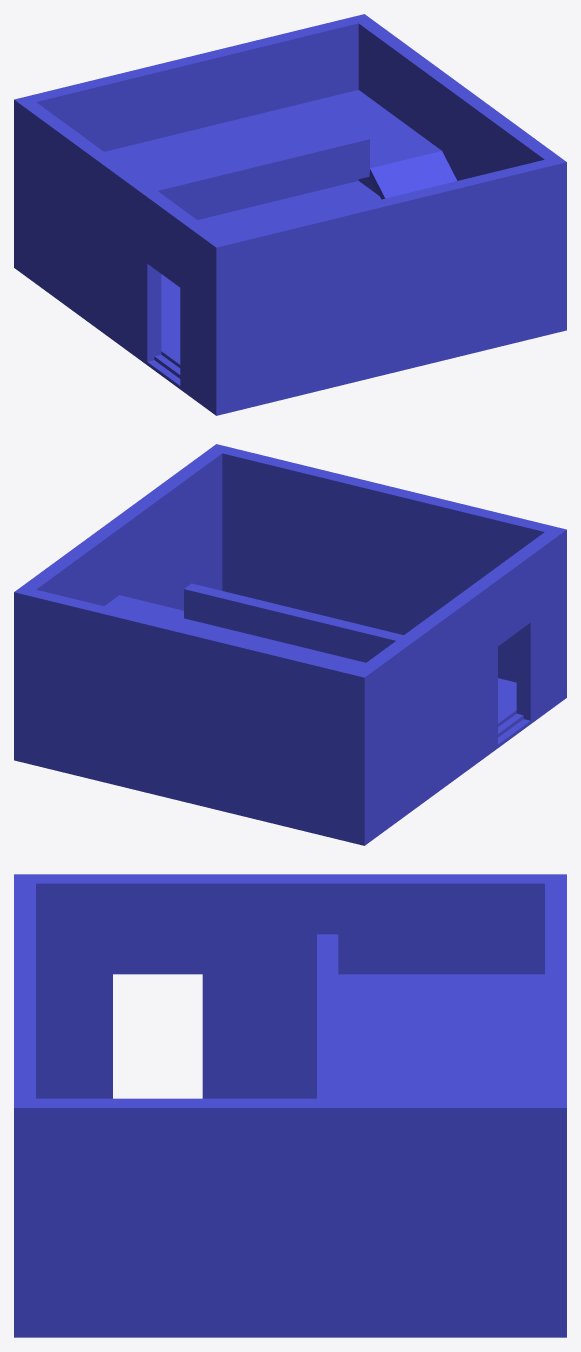
The model's file is house.glb.
3 renders of one model, top to bottom at view 1: azimuth 30°, elevation 25°; view 2: azimuth 150°, elevation 25°; view 3: azimuth 270°, elevation 25°, orthographic. The views are drawn at different scales.
Visible parts, largest first — view 1: house.001; view 2: house.001; view 3: house.001.
Part boxes in pixels (box(x1,y1,x2,y2)): house.001: box(14, 14, 566, 415); house.001: box(14, 444, 566, 845); house.001: box(14, 874, 566, 1337).
Size of what is drawn, in the model's own units: 9.77 by 4.48 by 9.77.
